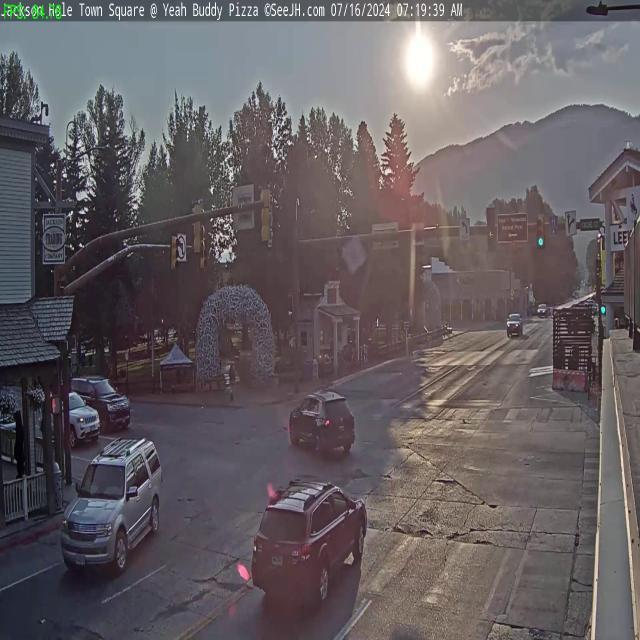suv: (249, 473, 369, 639), (58, 433, 165, 574), (287, 388, 356, 461), (72, 378, 132, 432), (43, 394, 100, 447), (506, 311, 523, 336)
traffic light: (190, 198, 204, 254), (260, 184, 273, 244), (486, 207, 496, 252), (171, 231, 180, 273), (536, 214, 546, 248)
